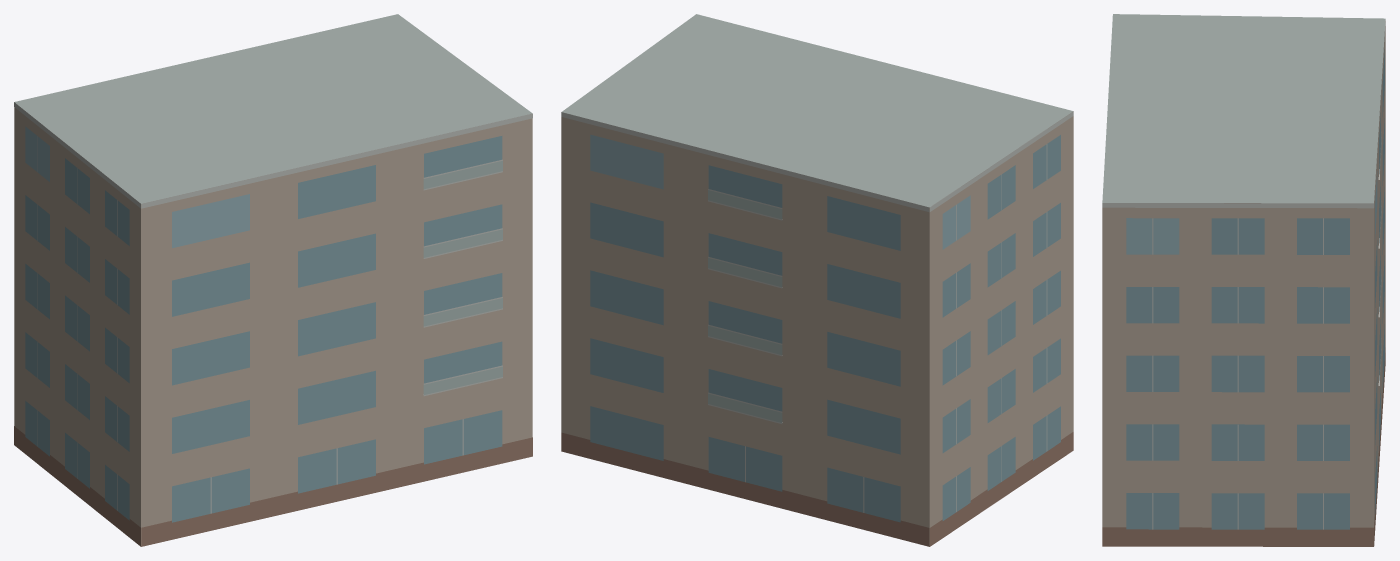
The model's file is survey-upis-32897809.glb.
3 views of the same model, side by side, from view 1: azimuth 30°, elevation 25°; view 2: azimuth 150°, elevation 25°; view 3: azimuth 270°, elevation 25° (orthographic).
Parts seen in each view (by area): view 1: survey-upis-32897809.tmp; view 2: survey-upis-32897809.tmp; view 3: survey-upis-32897809.tmp.
Boxes of the visible parts, left/top/right/bottom form: survey-upis-32897809.tmp: left=14, top=14, right=532, bottom=546; survey-upis-32897809.tmp: left=561, top=14, right=1073, bottom=546; survey-upis-32897809.tmp: left=1102, top=14, right=1385, bottom=546.
Size of the model in its own units: 20.31 by 17.18 by 12.85.
